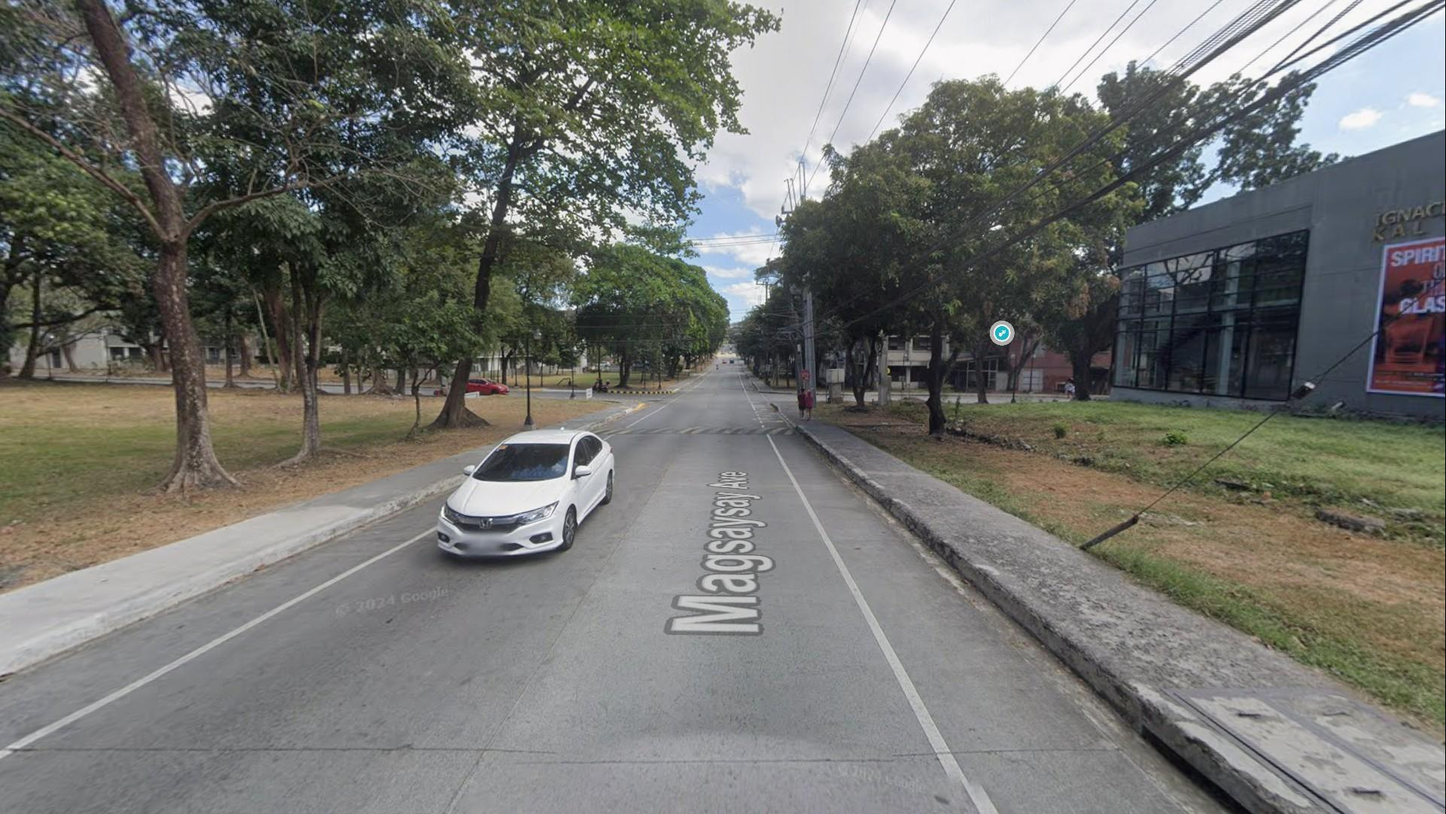pedestrian: (804, 390, 814, 422), (797, 386, 806, 419)
